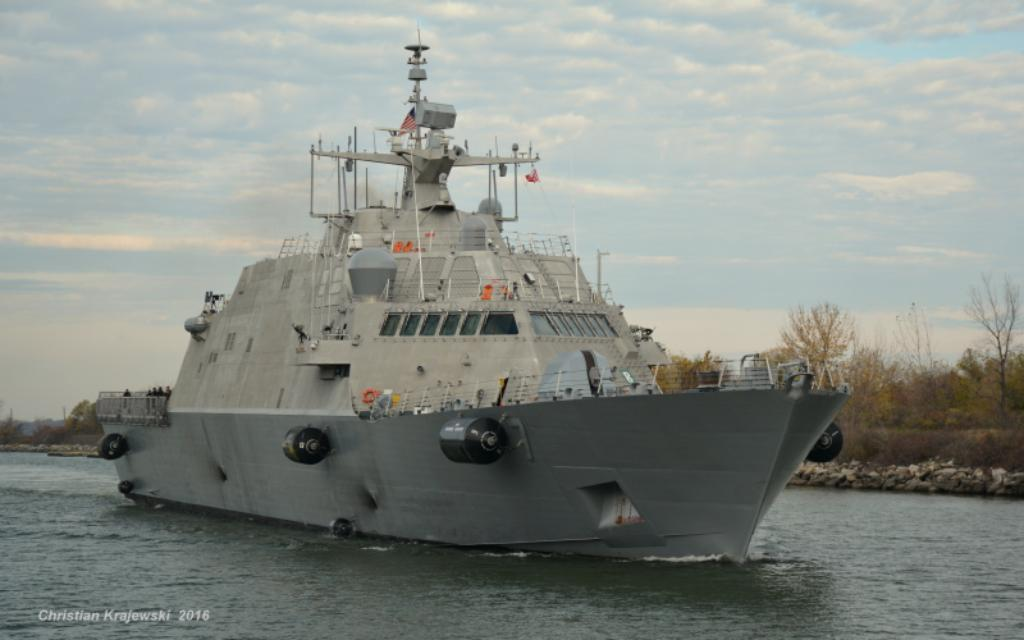Warship: (92, 24, 848, 568)
